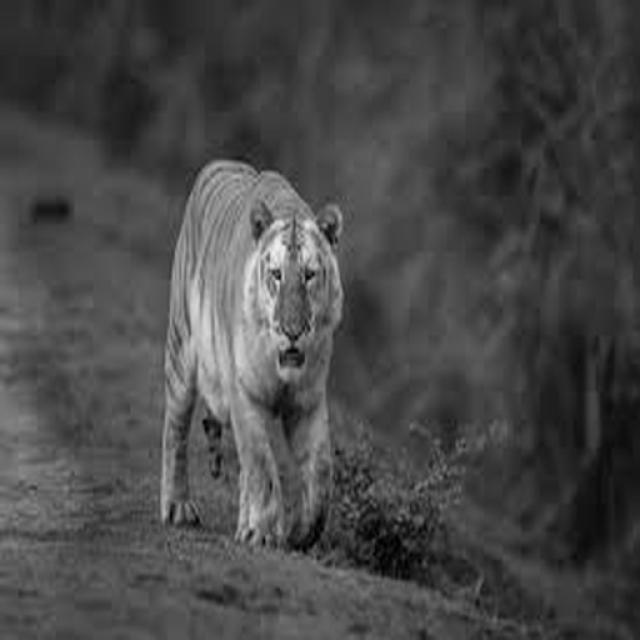Tiger: (157, 156, 345, 552)
